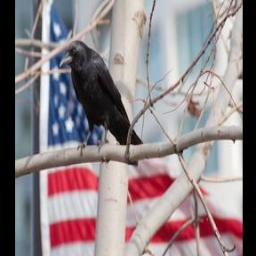Crow: (60, 38, 146, 161)
